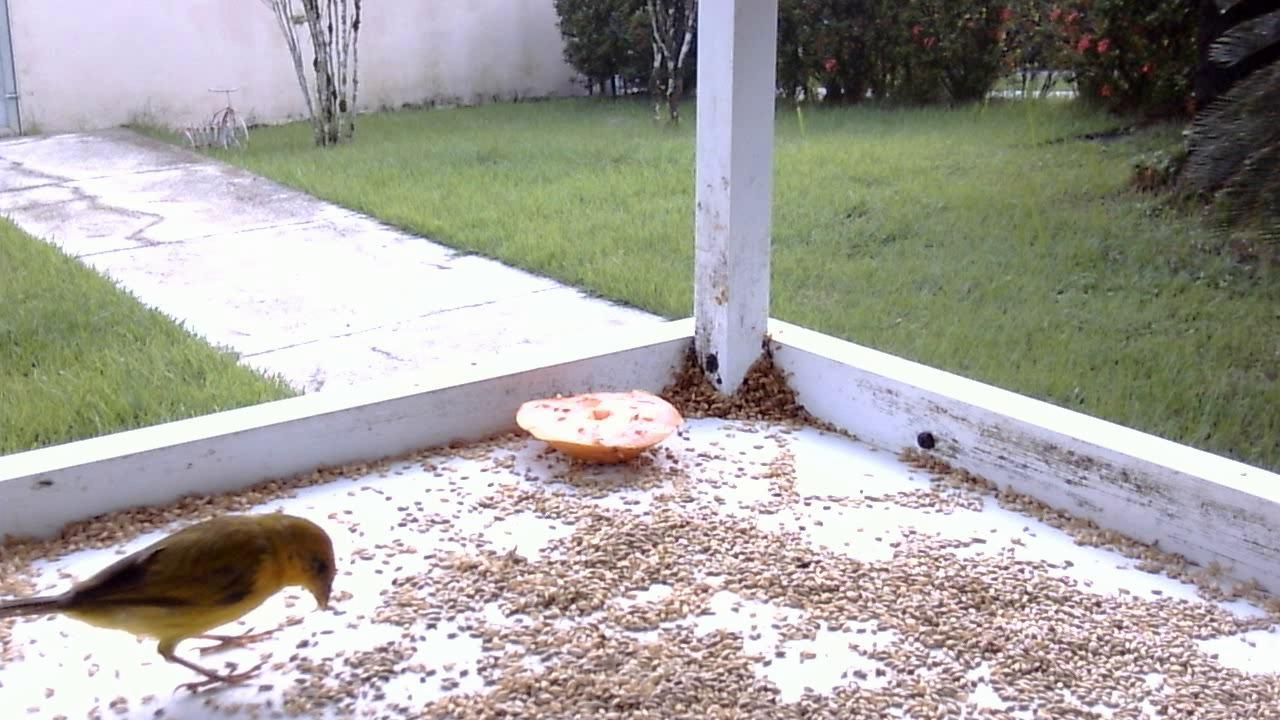canario_do_amazonas: (1, 507, 345, 696)
